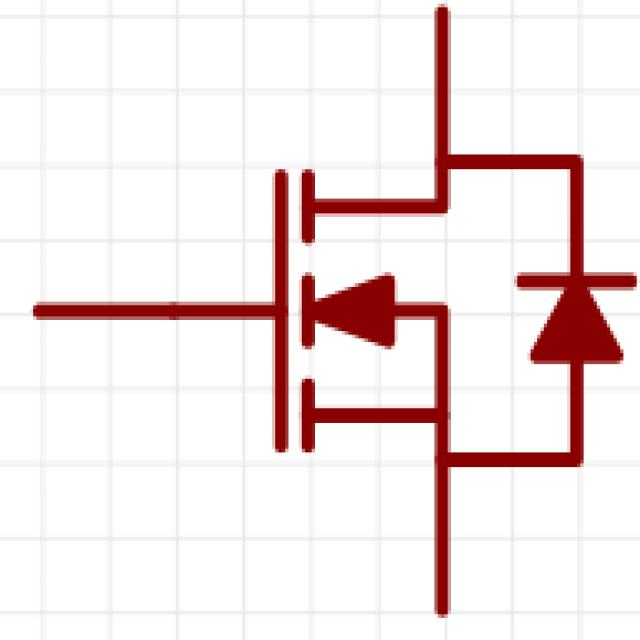nmos: (40, 12, 640, 618)
